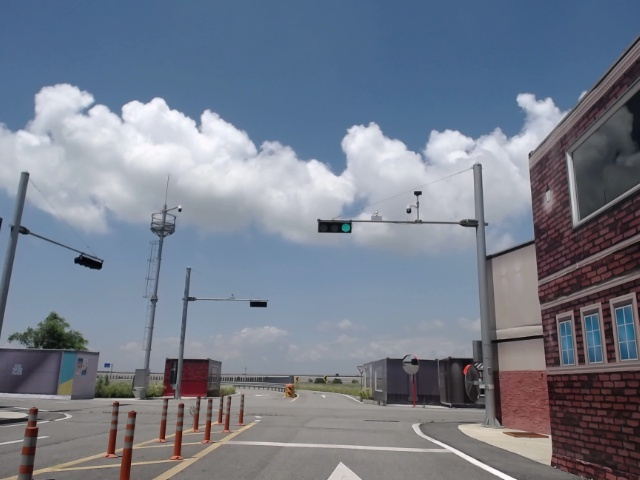green_3: (318, 221, 352, 233)
